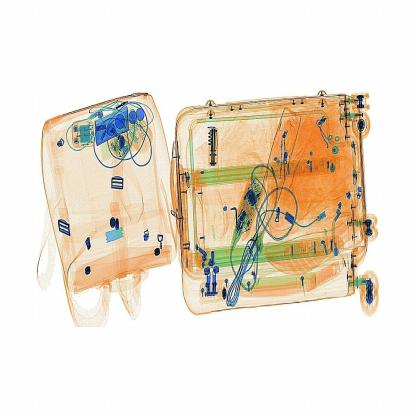scissors: (199, 122, 227, 176)
